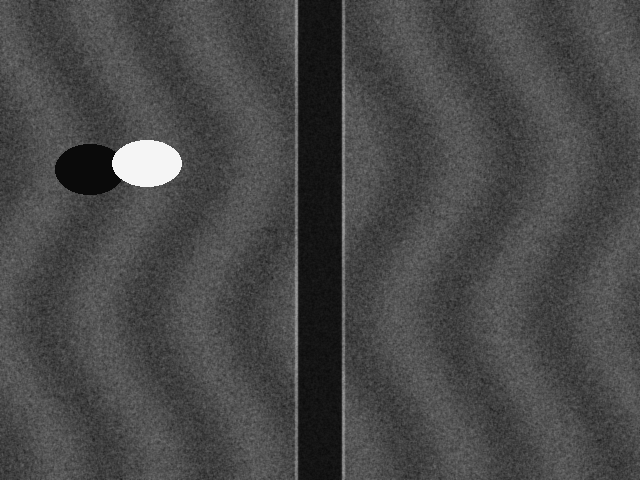Plastic Debris: (112, 140, 181, 186)
